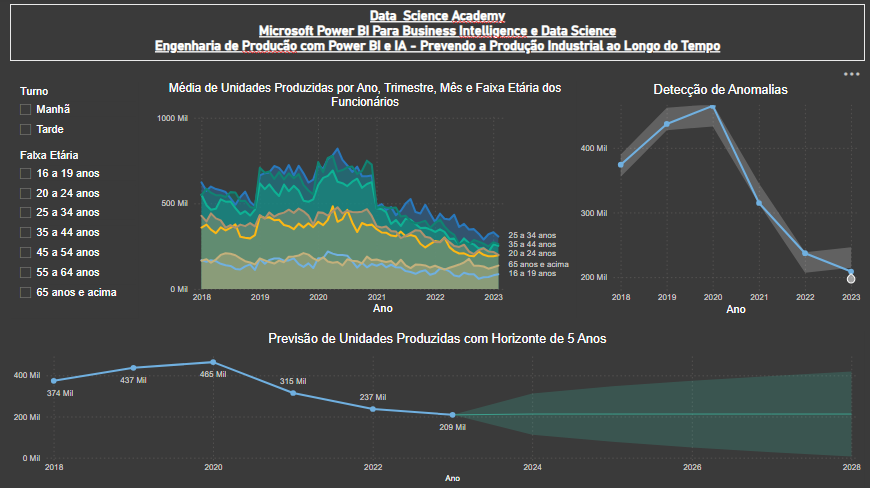

The dashboard page shown, as its layout file describes it:
{"tool":"powerbi","page":{"name":"Lab9","canvas":[1280,720],"ordinal":0},"visuals":[{"type":"areaChart","title":"Média de Unidades Produzidas por Ano, Trimestre, Mês e Faixa Etária dos Funcionários","fields":{"Category":["Producao.Período.Variation.Hierarquia de datas.Ano","Producao.Período.Variation.Hierarquia de datas.Trimestre","Producao.Período.Variation.Hierarquia de datas.Mês","Producao.Período.Variation.Hierarquia de datas.Dia"],"Y":["Avg(Producao.Total Unidades Produzidas)"],"Series":["Producao.Range Idade Funcionários"]},"box":[227.4,123.5,620.4,346.5],"z":0},{"type":"slicer","fields":{"Values":["Producao.Turno"]},"box":[18.6,123.9,187.1,94.2],"z":1000},{"type":"slicer","fields":{"Values":["Producao.Range Idade Funcionários"]},"box":[18.6,218.1,187.1,251.6],"z":2000},{"type":"lineChart","title":"Previsão de Unidades Produzidas com Horizonte de 5 Anos","fields":{"Category":["Producao.Período.Variation.Hierarquia de datas.Ano","Producao.Período.Variation.Hierarquia de datas.Trimestre","Producao.Período.Variation.Hierarquia de datas.Mês","Producao.Período.Variation.Hierarquia de datas.Dia"],"Y":["Avg(Producao.Total Unidades Produzidas)"]},"box":[17.3,488.3,1250.4,226.8],"z":3000},{"type":"lineChart","title":"Detecção de Anomalias","fields":{"Category":["Producao.Período.Variation.Hierarquia de datas.Ano","Producao.Período.Variation.Hierarquia de datas.Trimestre","Producao.Período.Variation.Hierarquia de datas.Mês","Producao.Período.Variation.Hierarquia de datas.Dia"],"Y":["Avg(Producao.Total Unidades Produzidas)"]},"box":[847.6,123.9,420.1,345.7],"z":4000},{"type":"textbox","box":[17.3,9.9,1251.6,84.3],"z":5000}]}

Visuals, with their boxes in screenshot pixels (x1, y1, x2, y2), scaled from the page's 1280x720 canvas onto the 870x488 screenshot:
"Média de Unidades Produzidas por Ano, Trimestre, Mês e Faixa Etária dos Funcionários" areaChart: crop(155, 84, 576, 319)
slicer - Producao.Turno: crop(13, 84, 140, 148)
slicer - Producao.Range Idade Funcionários: crop(13, 148, 140, 318)
"Previsão de Unidades Produzidas com Horizonte de 5 Anos" lineChart: crop(12, 331, 862, 485)
"Detecção de Anomalias" lineChart: crop(576, 84, 862, 318)
textbox: crop(12, 7, 862, 64)
